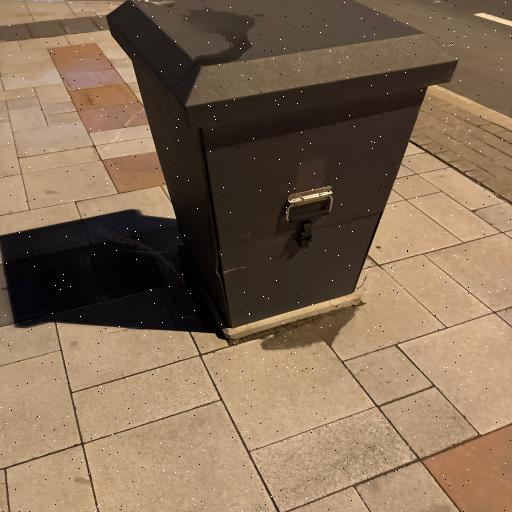Electrical Box: (103, 0, 461, 325)
